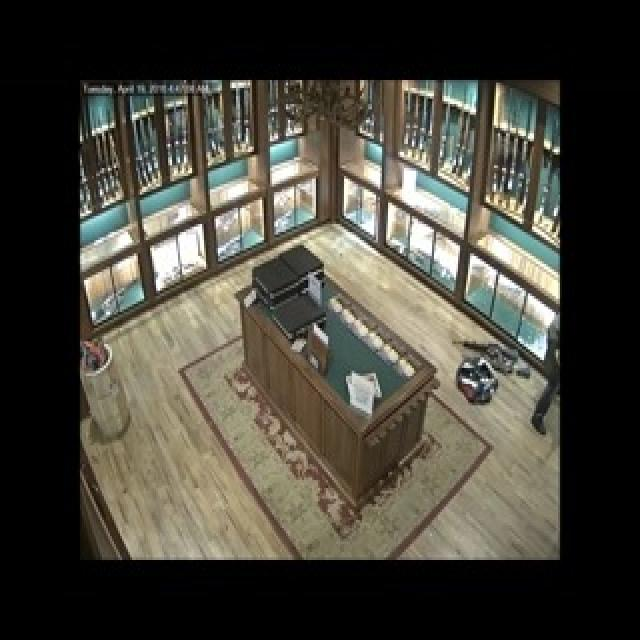thief: (536, 311, 569, 408)
